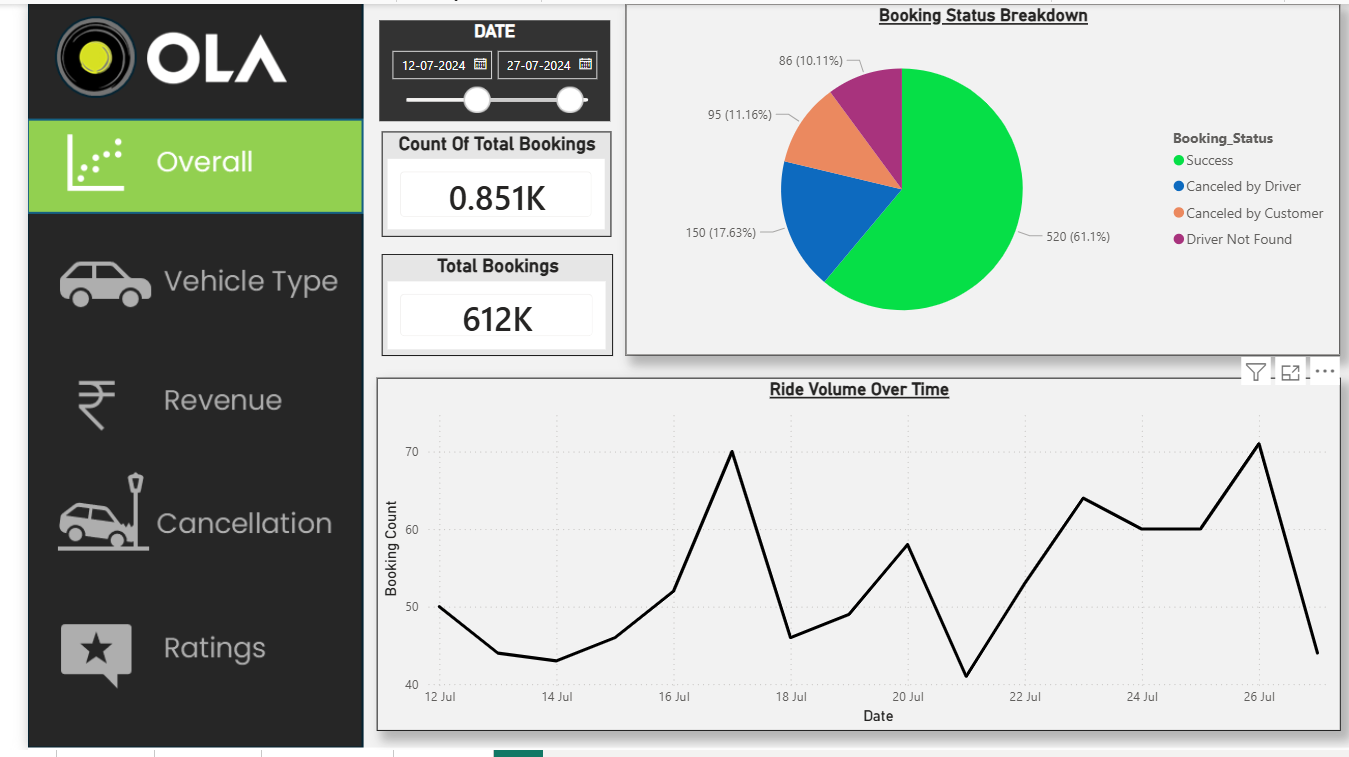

Layout of this report page (visuals, bound fields, positions):
{"tool":"powerbi","page":{"name":"Overall","canvas":[1280,720],"ordinal":0},"visuals":[{"type":"actionButton","box":[0,223.8,322.5,92.5],"z":0},{"type":"actionButton","box":[0,338.8,322.5,92.5],"z":1000},{"type":"actionButton","box":[0,446.2,322.5,92.5],"z":2000},{"type":"actionButton","box":[0,582.5,322.5,92.5],"z":3000},{"type":"lineChart","title":"Ride Volume Over Time","fields":{"Y":["CountNonNull(Bookings.Booking_Status)"],"Category":["Bookings.Date"]},"box":[336.4,360.6,930.3,340.9],"z":4000},{"type":"pieChart","title":"Booking Status Breakdown","fields":{"Category":["Bookings.Booking_Status"],"Y":["CountNonNull(Bookings.Booking_Status)"]},"box":[577.3,0,689.4,339.4],"z":5000},{"type":"slicer","title":"DATE","fields":{"Values":["Bookings.Date"]},"box":[339.4,15.2,222.7,97],"z":6000},{"type":"cardVisual","title":"Count Of Total Bookings","fields":{"Data":["CountNonNull(Bookings.Booking_ID)"]},"box":[340.9,122.7,221.2,101.5],"z":7000},{"type":"cardVisual","title":"Total Bookings ","fields":{"Data":["Sum(Bookings.Booking_Value)"]},"box":[341.4,241.4,222.9,98.6],"z":8000}]}

Visuals, with their boxes in screenshot pixels (x1, y1, x2, y2), scaled from the page's 1280x720 canvas onto the 1349x757 screenshot:
actionButton: left=0, top=235, right=340, bottom=333
actionButton: left=0, top=356, right=340, bottom=453
actionButton: left=0, top=469, right=340, bottom=566
actionButton: left=0, top=612, right=340, bottom=710
"Ride Volume Over Time" lineChart: left=355, top=379, right=1335, bottom=738
"Booking Status Breakdown" pieChart: left=608, top=0, right=1335, bottom=357
"DATE" slicer: left=358, top=16, right=592, bottom=118
"Count Of Total Bookings" cardVisual: left=359, top=129, right=592, bottom=236
"Total Bookings " cardVisual: left=360, top=254, right=595, bottom=357
